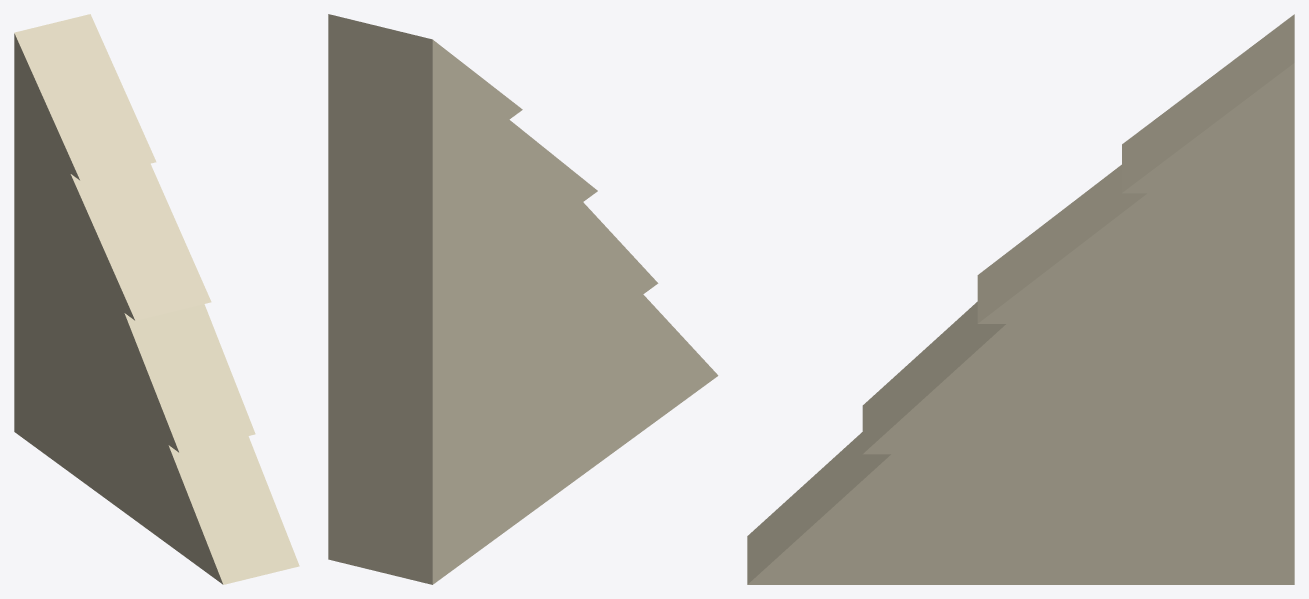
File: roman_roof_tile_end_left.fbx
3 views of the same model, side by side, from view 1: azimuth 30°, elevation 25°; view 2: azimuth 150°, elevation 25°; view 3: azimuth 270°, elevation 25° (orthographic). The views are drawn at different scales.
Parts seen in each view (by area): view 1: Cube.065; view 2: Cube.065; view 3: Cube.065.
Boxes of the visible parts, x1,y1,x2,y2 form: Cube.065: (14, 14, 299, 584); Cube.065: (328, 14, 718, 584); Cube.065: (747, 14, 1294, 584).
Size of the model in its own units: 0.4 by 2 by 1.9.
